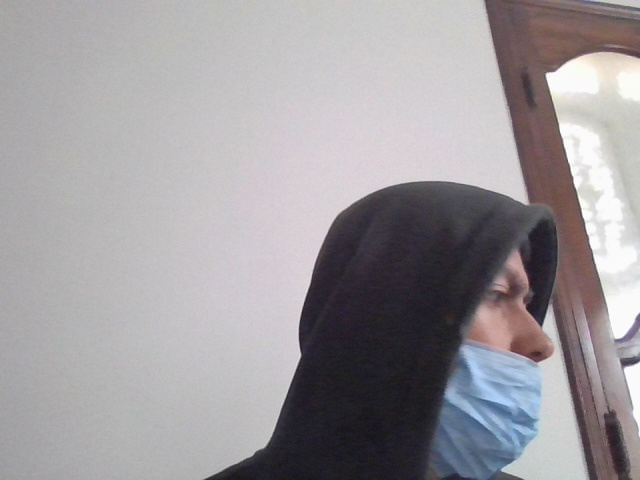mask_weared_incorrect: (428, 214, 566, 480)
